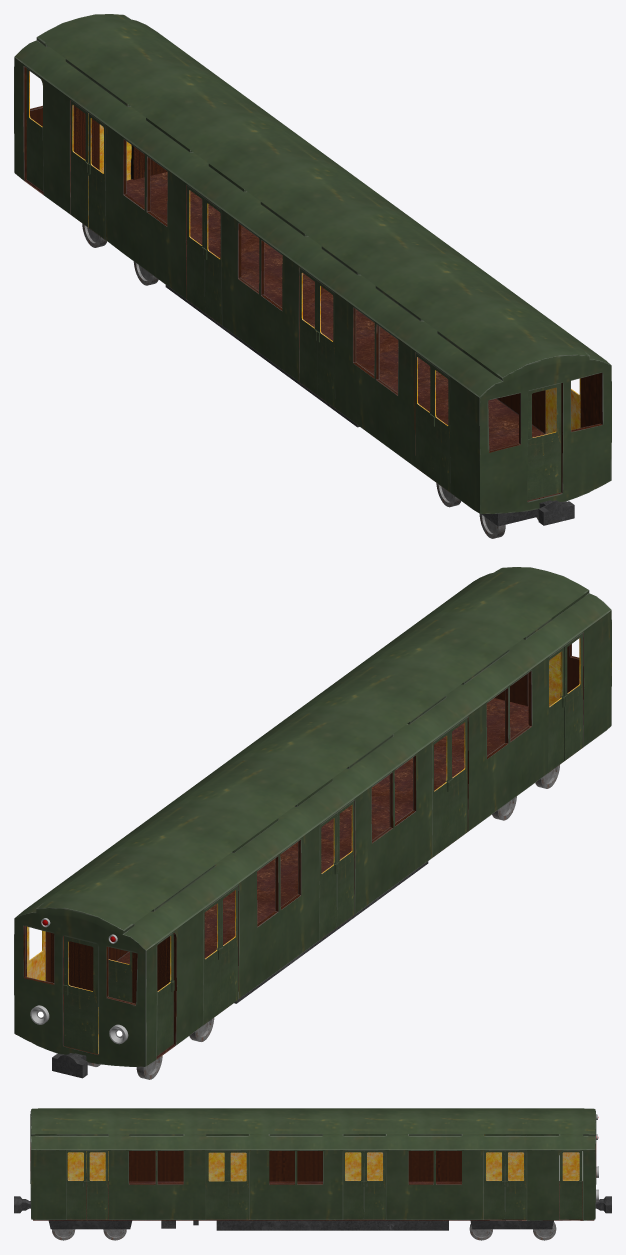
File: MetrowagonAnkaToy.gltf
3 renders of one model, top to bottom at view 1: azimuth 30°, elevation 25°; view 2: azimuth 150°, elevation 25°; view 3: azimuth 270°, elevation 25°, orthographic. The views are drawn at different scales.
Visible parts, largest first — view 1: MetrowagonA_wagon, Cube.001, Door.016, Door.012, Door.013, Door.014, Door.011, Door.008, Cube, Door.015, Door.009, Door.010 (+2 smaller); view 2: MetrowagonA_wagon, Cube.001, Door.017, Cube, Door.014, Door.009, Door.013, Door.010, Door.011, Door.012, Door.008, Door.015 (+3 smaller); view 3: MetrowagonA_wagon, Bogey.003, Door.019, Cube.001, Door, Door.001, Door.002, Door.005, Door.006, Door.003, Door.004, Door.007 (+17 smaller).
Part boxes in pixels (x1,y1,x2,y2): MetrowagonA_wagon: [14, 14, 611, 513]; Cube.001: [25, 172, 544, 450]; Door.016: [527, 383, 561, 500]; Door.012: [299, 268, 317, 394]; Door.013: [316, 281, 335, 408]; Door.014: [431, 365, 450, 492]; Door.011: [187, 186, 204, 312]; Door.008: [71, 101, 88, 227]; Cube: [73, 105, 167, 179]; Door.015: [415, 353, 432, 479]; Door.009: [87, 113, 106, 240]; Door.010: [204, 199, 221, 325]; MetrowagonA_wagon: [14, 567, 611, 1066]; Cube.001: [15, 698, 528, 1057]; Door.017: [63, 936, 98, 1054]; Cube: [50, 933, 169, 1003]; Door.014: [564, 633, 582, 760]; Door.009: [220, 885, 238, 1012]; Door.013: [449, 718, 467, 844]; Door.010: [337, 801, 354, 927]; Door.011: [319, 813, 337, 940]; Door.012: [432, 731, 450, 857]; Door.008: [203, 899, 221, 1025]; Door.015: [548, 647, 565, 772]; MetrowagonA_wagon: [30, 1108, 596, 1220]; Bogey.003: [216, 1220, 448, 1230]; Door.019: [559, 1151, 582, 1219]; Cube.001: [33, 1181, 594, 1220]; Door: [205, 1151, 227, 1219]; Door.001: [227, 1151, 249, 1219]; Door.002: [87, 1151, 108, 1219]; Door.005: [364, 1151, 385, 1219]; Door.006: [505, 1151, 526, 1219]; Door.003: [66, 1151, 86, 1219]; Door.004: [343, 1151, 363, 1219]; Door.007: [484, 1151, 504, 1219].
Bounding box in the file's own units: 0.0883 × 0.1204 × 0.5627.
Materials: 15 (10 with a texture image).
